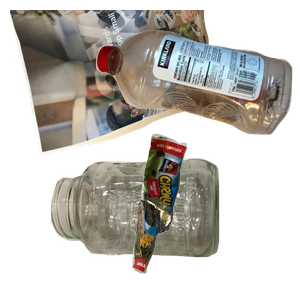glass: (48, 156, 260, 300)
paper: (10, 10, 233, 158)
plastic: (93, 27, 300, 154)
trash: (130, 131, 300, 300)
